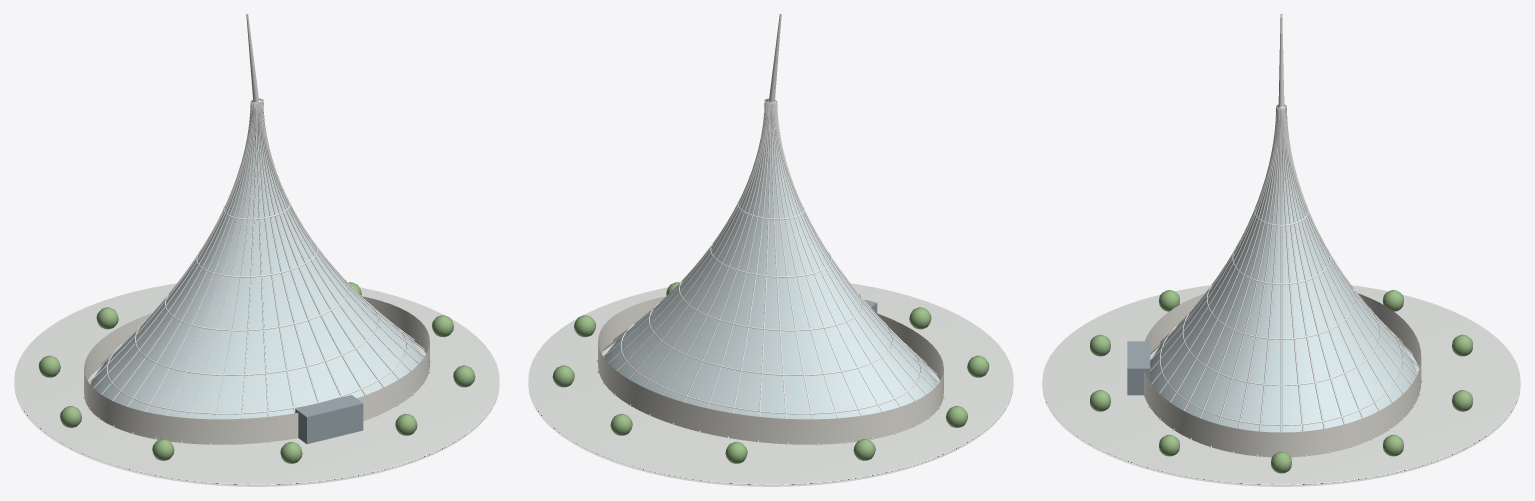
Rendered from khan-shatyr.glb.
3 renders of one model, left to right at view 1: azimuth 30°, elevation 25°; view 2: azimuth 150°, elevation 25°; view 3: azimuth 270°, elevation 25°, orthographic.
Parts seen in each view (by area): view 1: roof, plaza, base, cable (×16), entrance, ring (×2); view 2: roof, plaza, base, cable (×16), ring (×2); view 3: roof, plaza, cable (×15), base, entrance, ring (×2).
Part boxes in pixels (left/top/right/bottom): roof: left=90, top=99, right=423, bottom=419; plaza: left=14, top=283, right=499, bottom=486; base: left=84, top=296, right=429, bottom=444; cable (×16): left=88, top=101, right=424, bottom=445; entrance: left=295, top=395, right=363, bottom=444; ring (×2): left=106, top=302, right=407, bottom=414; roof: left=604, top=99, right=937, bottom=419; plaza: left=528, top=283, right=1013, bottom=486; base: left=598, top=296, right=943, bottom=444; cable (×16): left=603, top=101, right=939, bottom=445; ring (×2): left=620, top=302, right=921, bottom=414; roof: left=1150, top=105, right=1416, bottom=432; plaza: left=1042, top=285, right=1520, bottom=486; cable (×15): left=1148, top=107, right=1414, bottom=456; base: left=1144, top=293, right=1421, bottom=457; entrance: left=1127, top=341, right=1150, bottom=395; ring (×2): left=1159, top=307, right=1403, bottom=425.
Bounding box in the file's own units: 5.2 × 4.4 × 5.2.
